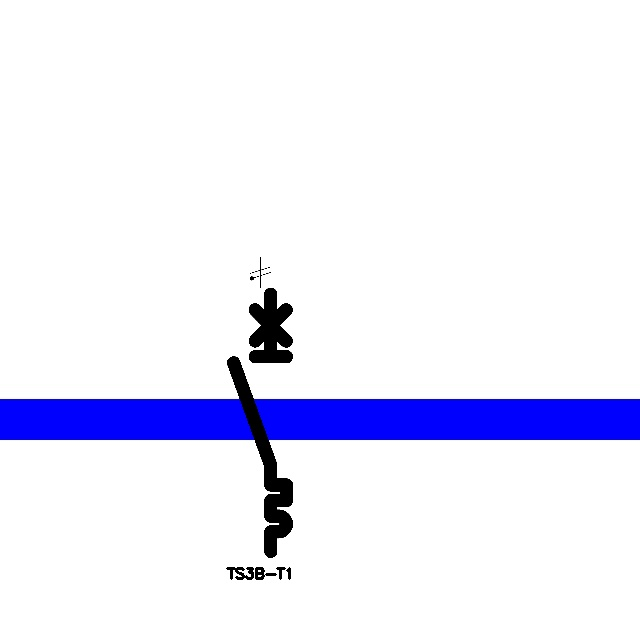interruptor_termomagnetico: (227, 287, 293, 557)
